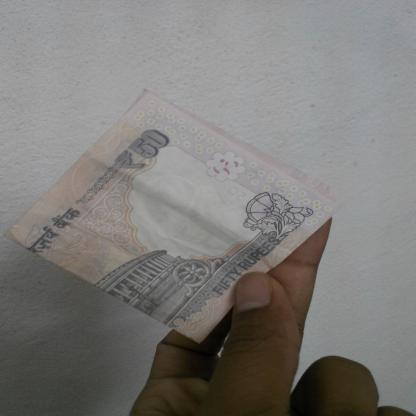Old50Back: (0, 89, 342, 343)
